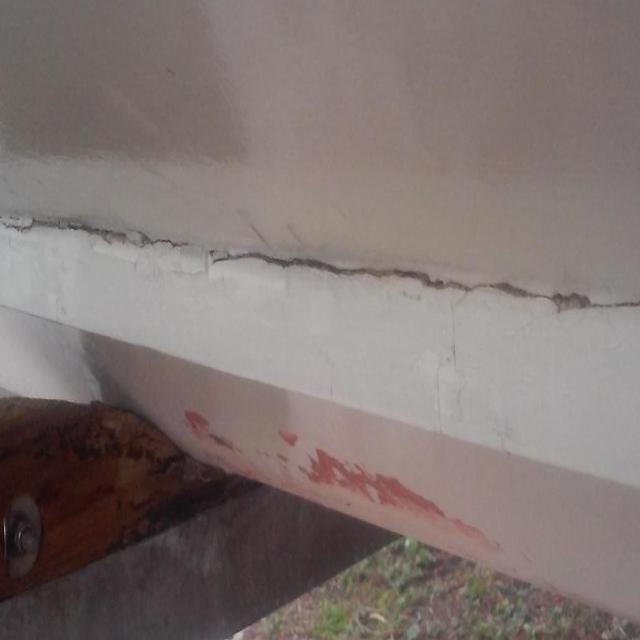Rupture: (2, 212, 636, 321)
